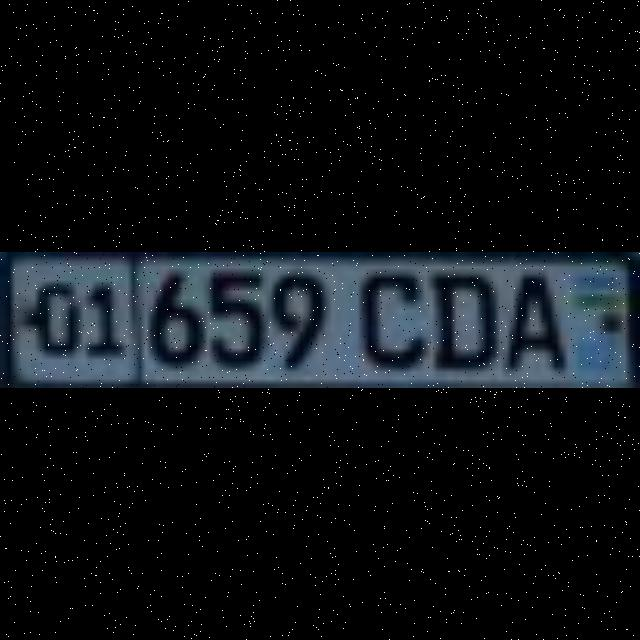0: (32, 270, 74, 346)
1: (74, 270, 118, 346)
5: (205, 258, 261, 358)
6: (143, 264, 199, 358)
9: (261, 258, 317, 364)
A: (497, 264, 559, 364)
C: (354, 258, 422, 358)
D: (429, 264, 491, 358)
